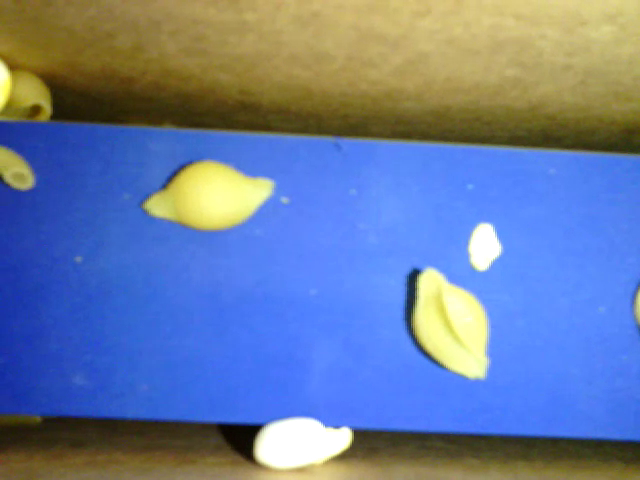elbow: (1, 149, 39, 188)
shell: (405, 264, 490, 383), (139, 159, 274, 231), (1, 71, 54, 125)
